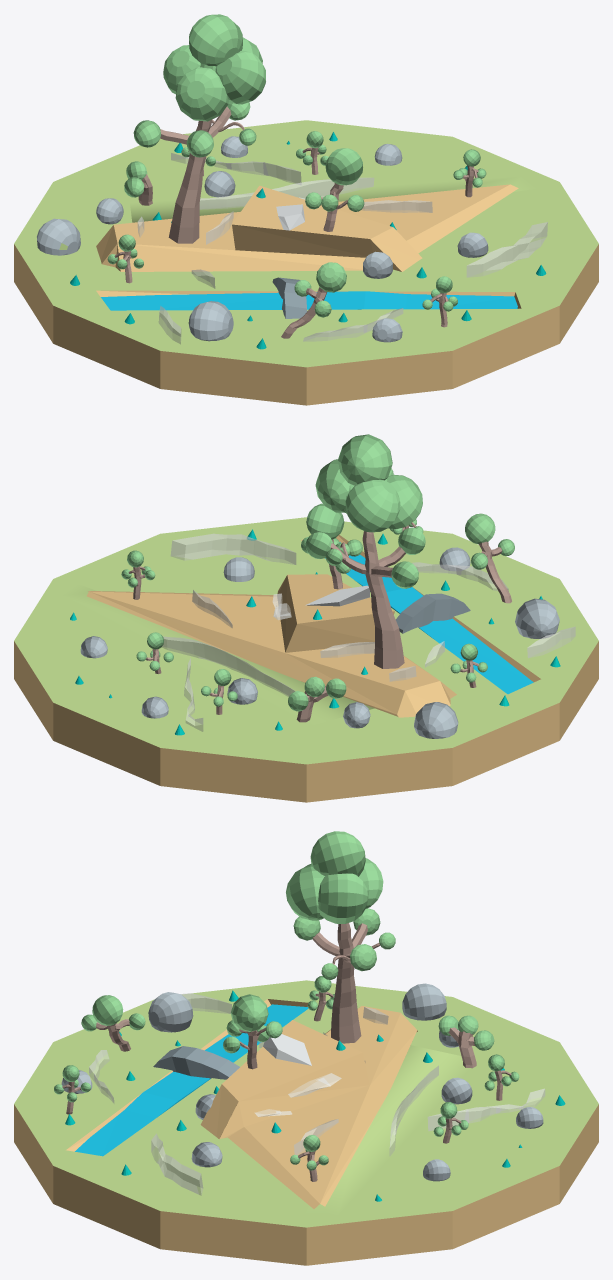
File: Island.fbx
3 views of the same model, one above another, from view 1: azimuth 30°, elevation 25°; view 2: azimuth 150°, elevation 25°; view 3: azimuth 270°, elevation 25° (orthographic).
Parts seen in each view (by area): view 1: mesh677203707, mesh1341718410, mesh99869697, mesh64751064, mesh1491391579, mesh1097537525, mesh874274485, mesh564453703, mesh788601160, mesh439195525, mesh1318537257, mesh958494588 (+12 smaller); view 2: mesh677203707, mesh1341718410, mesh99869697, mesh874274485, mesh1472752304, mesh1491391579, mesh564453703, mesh1690909731, mesh788601160, mesh439195525, mesh137109805, mesh64751064 (+17 smaller); view 3: mesh677203707, mesh1341718410, mesh99869697, mesh137109805, mesh1491391579, mesh1690909731, mesh1097537525, mesh788601160, mesh439195525, mesh874274485, mesh958494588, mesh1318537257 (+7 smaller).
Boxes of the visible parts, <box> form: mesh677203707: <box>14,120,598,405</box>; mesh1341718410: <box>101,291,517,310</box>; mesh99869697: <box>168,119,212,243</box>; mesh64751064: <box>175,67,228,121</box>; mesh1491391579: <box>189,14,242,66</box>; mesh1097537525: <box>215,50,265,104</box>; mesh874274485: <box>466,222,547,277</box>; mesh564453703: <box>199,177,374,209</box>; mesh788601160: <box>188,301,233,341</box>; mesh439195525: <box>37,218,80,255</box>; mesh1318537257: <box>325,148,362,185</box>; mesh958494588: <box>171,153,301,184</box>; mesh677203707: <box>14,517,598,802</box>; mesh1341718410: <box>325,542,533,694</box>; mesh99869697: <box>362,531,404,668</box>; mesh874274485: <box>170,533,296,564</box>; mesh1472752304: <box>345,479,400,532</box>; mesh1491391579: <box>338,434,392,485</box>; mesh564453703: <box>162,636,295,696</box>; mesh1690909731: <box>395,593,470,633</box>; mesh788601160: <box>515,598,559,638</box>; mesh439195525: <box>414,702,458,738</box>; mesh137109805: <box>315,459,349,512</box>; mesh64751064: <box>387,474,422,528</box>; mesh677203707: <box>14,980,598,1265</box>; mesh1341718410: <box>75,1004,308,1156</box>; mesh99869697: <box>331,923,361,1043</box>; mesh137109805: <box>318,873,368,923</box>; mesh1491391579: <box>310,831,365,876</box>; mesh1690909731: <box>153,1046,239,1079</box>; mesh1097537525: <box>286,865,324,920</box>; mesh788601160: <box>148,992,193,1032</box>; mesh439195525: <box>402,983,446,1020</box>; mesh874274485: <box>151,1133,203,1195</box>; mesh958494588: <box>427,1088,545,1130</box>; mesh1318537257: <box>230,994,268,1031</box>.
Bounding box in the file's own units: 169 × 90.91 × 169.
